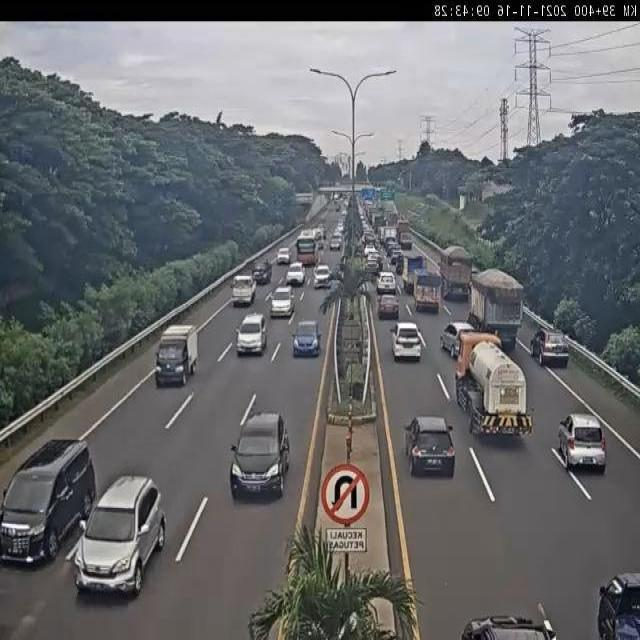Bus: (295, 229, 320, 266)
Car: (0, 436, 95, 568), (73, 476, 167, 597), (228, 412, 291, 498), (404, 416, 455, 478), (459, 609, 560, 639), (597, 572, 640, 640), (557, 413, 606, 472), (530, 328, 570, 368), (235, 312, 268, 356), (441, 320, 475, 358), (390, 320, 422, 360), (292, 319, 322, 358), (269, 287, 294, 318), (377, 294, 400, 321), (376, 271, 397, 295), (313, 264, 333, 289), (286, 262, 306, 286), (364, 256, 380, 277), (395, 254, 409, 275), (389, 248, 405, 266), (277, 248, 291, 266), (330, 235, 342, 251)
Truck: (453, 331, 534, 443), (468, 268, 523, 348), (155, 321, 199, 388), (436, 242, 474, 300), (412, 267, 444, 314), (401, 252, 426, 295), (230, 274, 256, 306), (251, 257, 273, 286)
